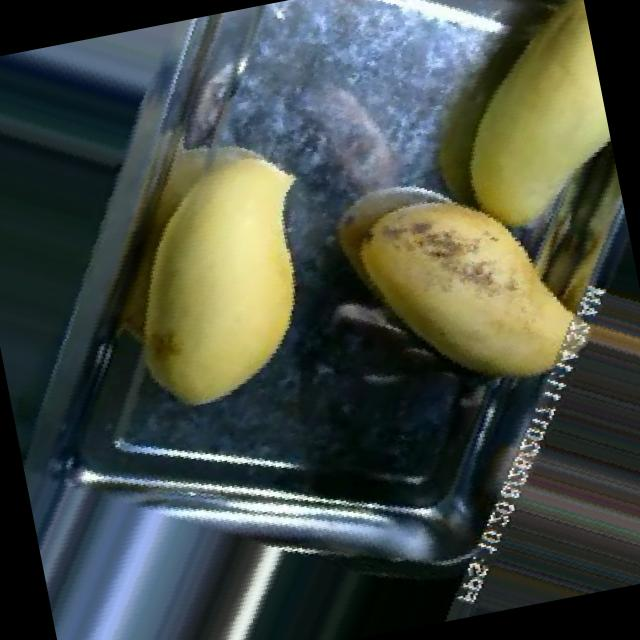fruit: (62, 88, 384, 466), (303, 128, 621, 438), (387, 0, 630, 275)
